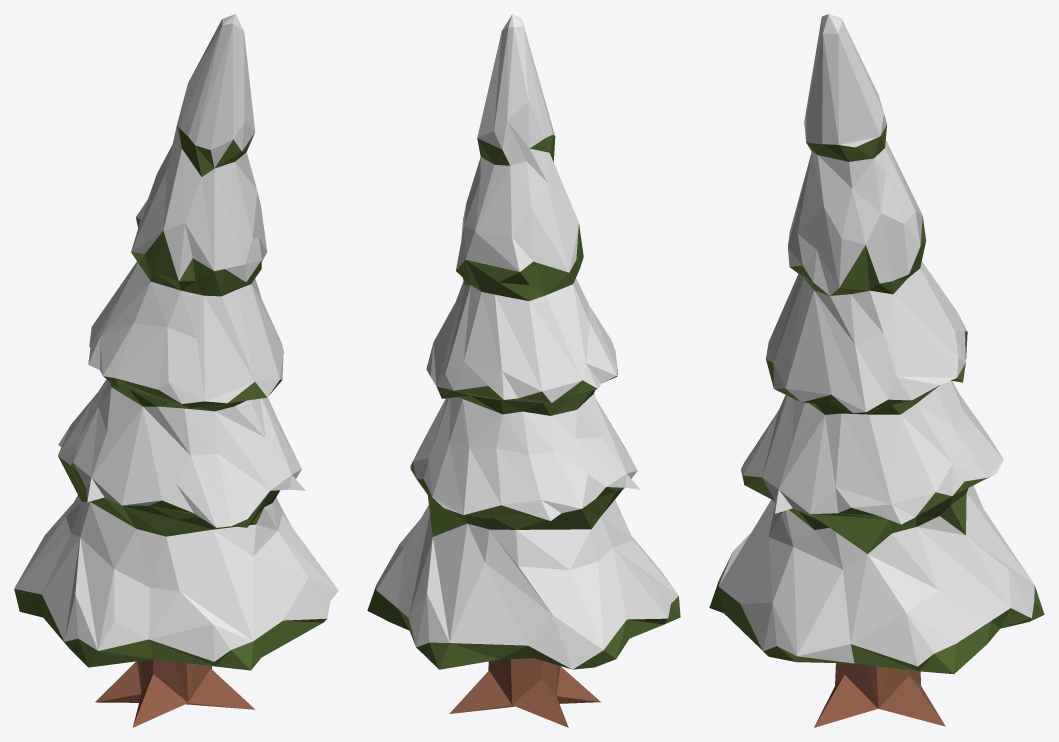
File: LightVegetationDecorationLargeSnowCovered2.fbx
The picture shows the model from 3 angles, left to right: view 1: azimuth 30°, elevation 25°; view 2: azimuth 150°, elevation 25°; view 3: azimuth 270°, elevation 25°; orthographic projection. The views are drawn at different scales.
Parts seen in each view (by area): view 1: LightVegetationDecorationLargeSnowCovered2; view 2: LightVegetationDecorationLargeSnowCovered2; view 3: LightVegetationDecorationLargeSnowCovered2.
Boxes of the visible parts, <box> form: LightVegetationDecorationLargeSnowCovered2: <box>14,14,338,727</box>; LightVegetationDecorationLargeSnowCovered2: <box>367,14,680,727</box>; LightVegetationDecorationLargeSnowCovered2: <box>709,14,1044,727</box>.
Size of the model in its own units: 390 by 983 by 420.
